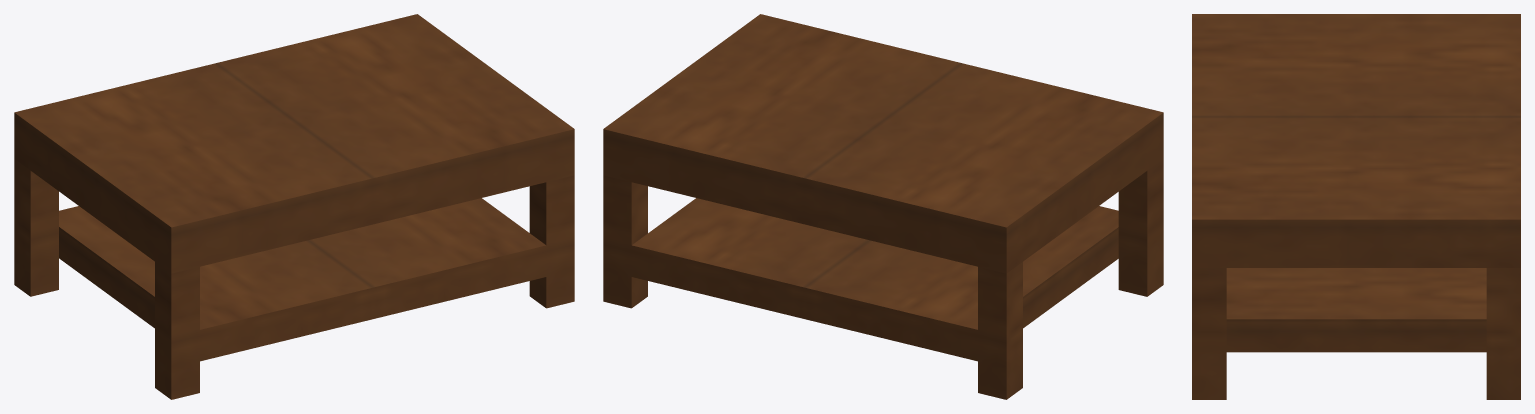
The model's file is TVStand.fbx.
3 views of the same model, side by side, from view 1: azimuth 30°, elevation 25°; view 2: azimuth 150°, elevation 25°; view 3: azimuth 270°, elevation 25° (orthographic). The views are drawn at different scales.
Visible parts, largest first — view 1: TVStand; view 2: TVStand; view 3: TVStand.
Part boxes in pixels (left/top/right/bottom): TVStand: left=14, top=14, right=574, bottom=399; TVStand: left=603, top=14, right=1163, bottom=399; TVStand: left=1192, top=14, right=1520, bottom=399.
Size of the model in its own units: 282 by 190 by 115.
